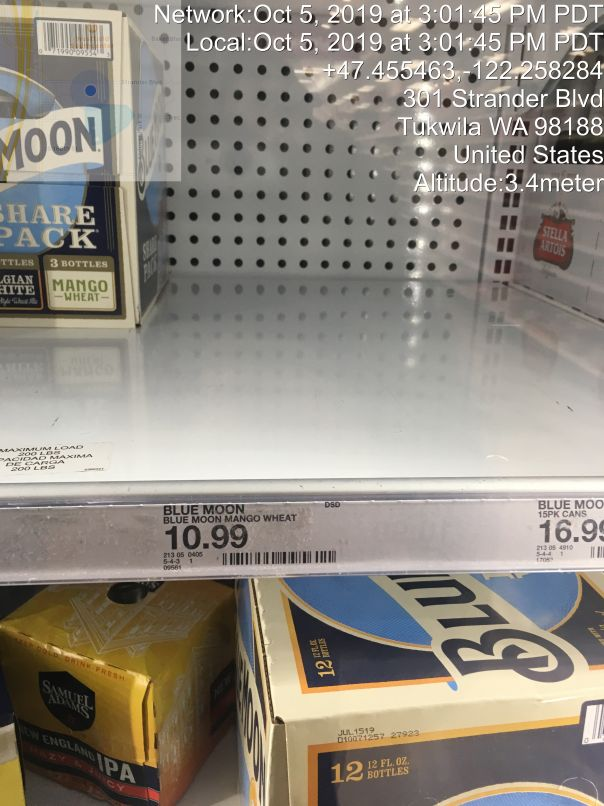Blue Moon: (237, 582, 593, 801), (3, 7, 177, 341)
Label: (122, 495, 350, 581)
Location: (394, 86, 604, 166)
Time: (151, 4, 604, 59)
Void: (191, 36, 519, 374)
